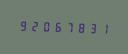eight: (72, 20, 82, 34)
nine: (17, 18, 27, 32)
one: (94, 21, 104, 35)
seven: (61, 19, 71, 34)
six: (50, 19, 60, 33)
three: (83, 20, 93, 35)
two: (28, 18, 38, 33)
zero: (39, 19, 49, 33)
